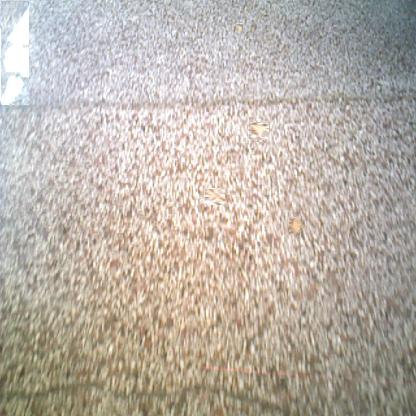dirty: (1, 1, 29, 105), (205, 187, 225, 206), (249, 122, 269, 141), (287, 219, 302, 233), (234, 25, 245, 35)
